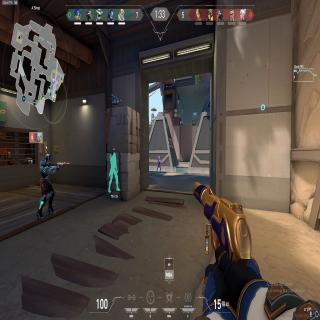ENEMY-BODY: (158, 154, 162, 173)
ENEMY-HEAD: (158, 156, 160, 159)
